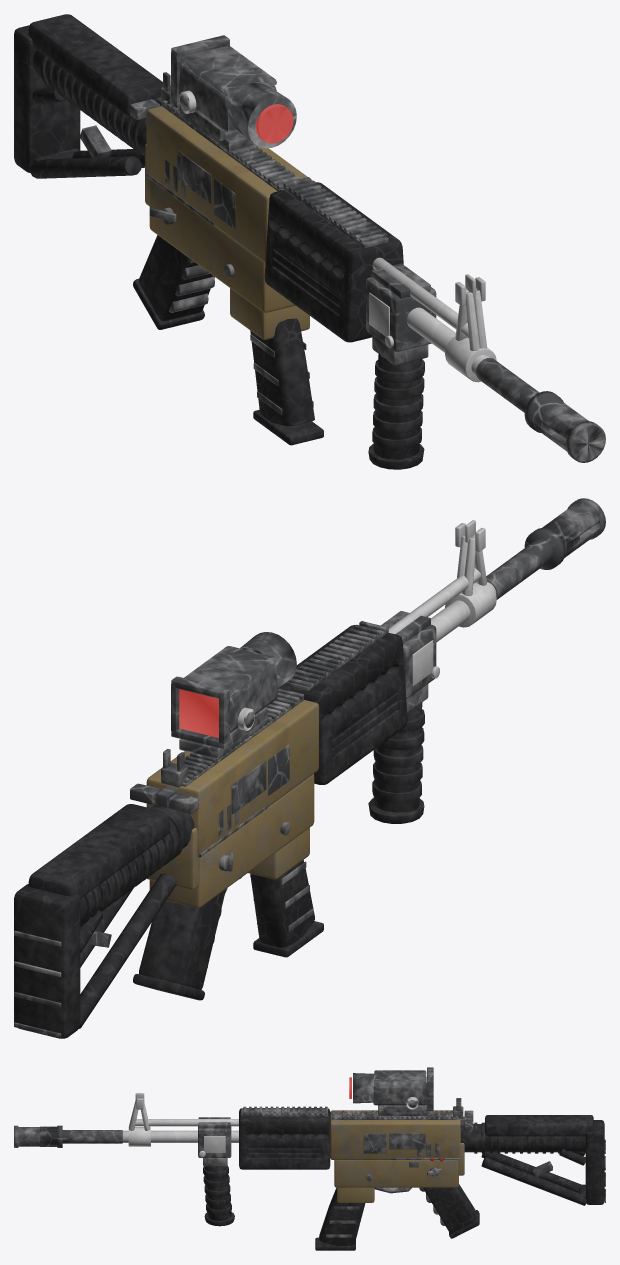
File: weapon_machinegun.glb
The picture shows the model from 3 angles, top to bottom: view 1: azimuth 30°, elevation 25°; view 2: azimuth 150°, elevation 25°; view 3: azimuth 270°, elevation 25°; orthographic projection. The views are drawn at different scales.
Visible parts, largest first — view 1: MG_Body, MG_Handguard, MG_Sight, MG_Magazine, MG_FlashHider; view 2: MG_Body, MG_Sight, MG_Handguard, MG_Magazine, MG_FlashHider, MG_ChargingHandle, MG_RearSight; view 3: MG_Body, MG_Handguard, MG_Sight, MG_Magazine, MG_FlashHider.
Part boxes in pixels (x1,y1,x2,y2): MG_Body: (14,14,539,469); MG_Handguard: (264,182,403,342); MG_Sight: (171,35,296,151); MG_Magazine: (250,318,323,445); MG_FlashHider: (524,391,605,462); MG_Body: (14,520,553,1038); MG_Sight: (171,632,296,758); MG_Handguard: (278,625,407,784); MG_Magazine: (250,860,323,957); MG_FlashHider: (524,498,605,569); MG_ChargingHandle: (130,783,198,813); MG_RearSight: (161,749,188,787); MG_Body: (62,1093,605,1238); MG_Handguard: (239,1108,330,1169); MG_Sight: (349,1067,433,1115); MG_Magazine: (315,1187,365,1250); MG_FlashHider: (14,1125,62,1147).
Bounding box in the file's own units: 0.0708 × 0.2625 × 0.8169.
Materials: 17 (17 with a texture image).
